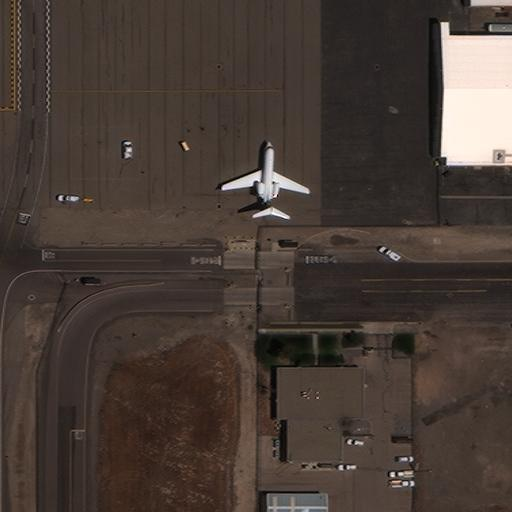Medium Civil Transport: (221, 141, 308, 216)
